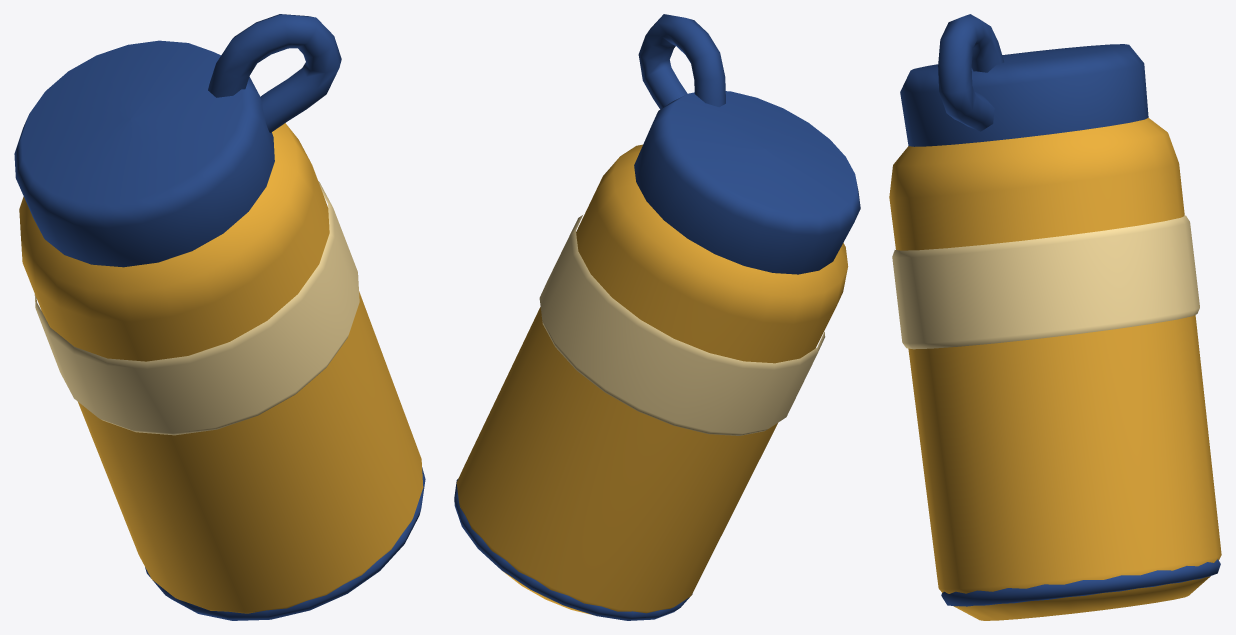
File: school-bottle.glb
3 renders of one model, left to right at view 1: azimuth 30°, elevation 25°; view 2: azimuth 150°, elevation 25°; view 3: azimuth 270°, elevation 25°, orthographic. The views are drawn at different scales.
Parts seen in each view (by area): view 1: school-bottle; view 2: school-bottle; view 3: school-bottle.
Part boxes in pixels (x1,y1,x2,y2): school-bottle: (14,14,425,620); school-bottle: (454,14,860,620); school-bottle: (889,14,1221,620).
Size of the model in its own units: 0.6473 by 0.9716 by 0.492.
